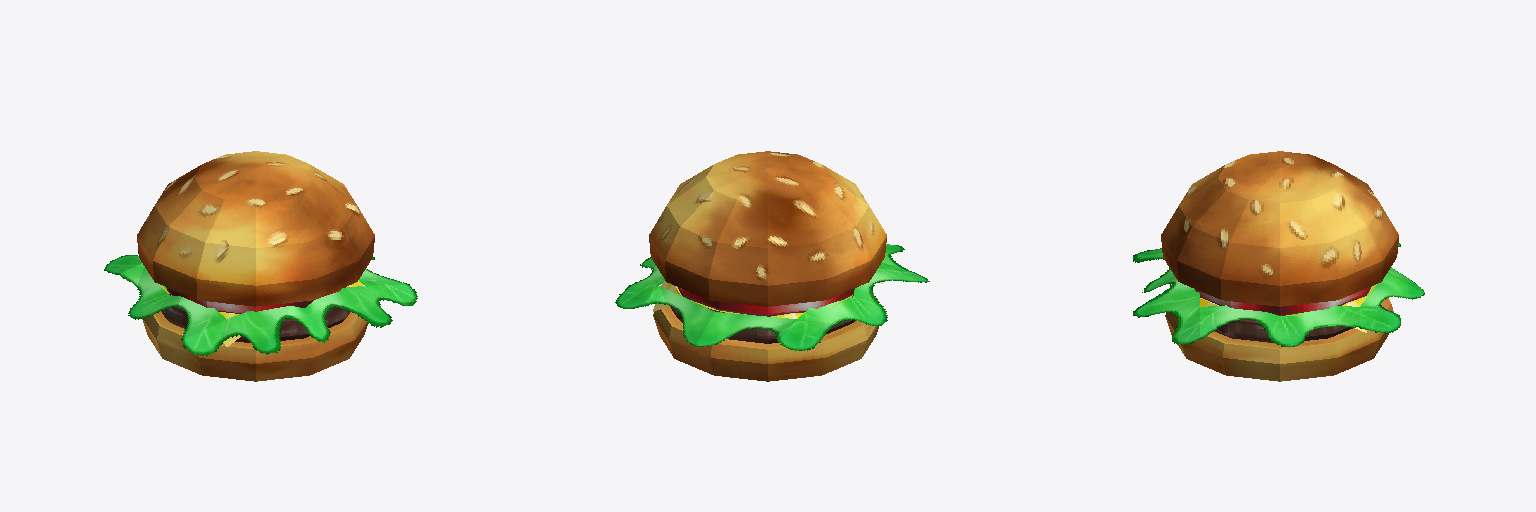
3 renders of one model, left to right at view 1: azimuth 30°, elevation 25°; view 2: azimuth 150°, elevation 25°; view 3: azimuth 270°, elevation 25°, orthographic.
Parts seen in each view (by area): view 1: krabby; view 2: krabby; view 3: krabby.
Part boxes in pixels (bbox=[...]): krabby: bbox=[104, 151, 417, 381]; krabby: bbox=[615, 151, 929, 381]; krabby: bbox=[1133, 151, 1424, 381].
Bounding box in the file's own units: 7.68 × 4.68 × 7.68.
Materials: 1 (1 with a texture image).